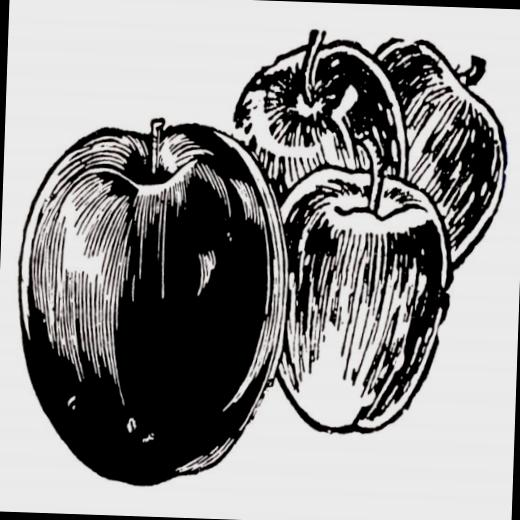Apple: (58, 128, 286, 496), (270, 132, 455, 437), (364, 32, 513, 272), (228, 24, 412, 212)
